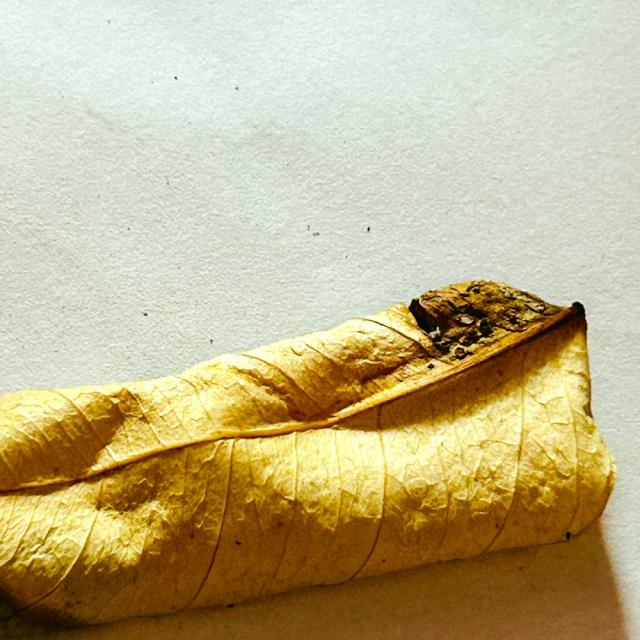DryLeaf_Lemon: (0, 280, 614, 626)
